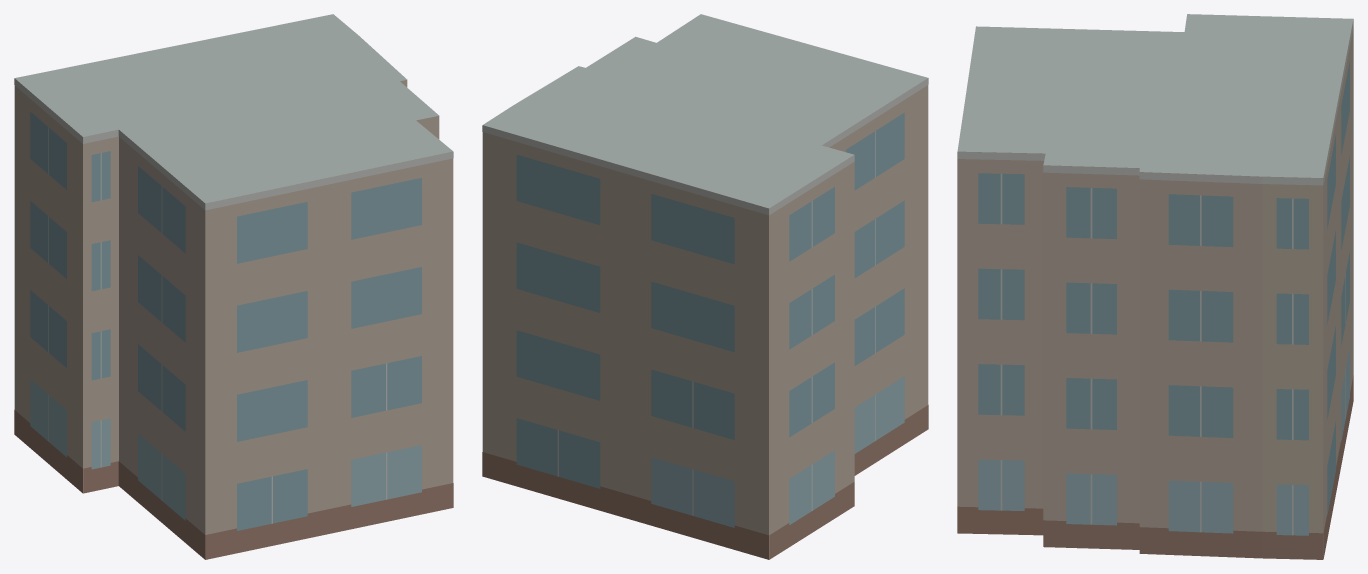
Rendered from survey-upis-32711688.glb.
3 views of the same model, side by side, from view 1: azimuth 30°, elevation 25°; view 2: azimuth 150°, elevation 25°; view 3: azimuth 270°, elevation 25° (orthographic). The views are drawn at different scales.
Parts seen in each view (by area): view 1: survey-upis-32711688.tmp; view 2: survey-upis-32711688.tmp; view 3: survey-upis-32711688.tmp.
Part boxes in pixels (<box>): survey-upis-32711688.tmp: <box>14,14,453,559</box>; survey-upis-32711688.tmp: <box>482,14,928,559</box>; survey-upis-32711688.tmp: <box>957,14,1353,559</box>.
Size of the model in its own units: 11.62 by 12.6 by 11.86.
